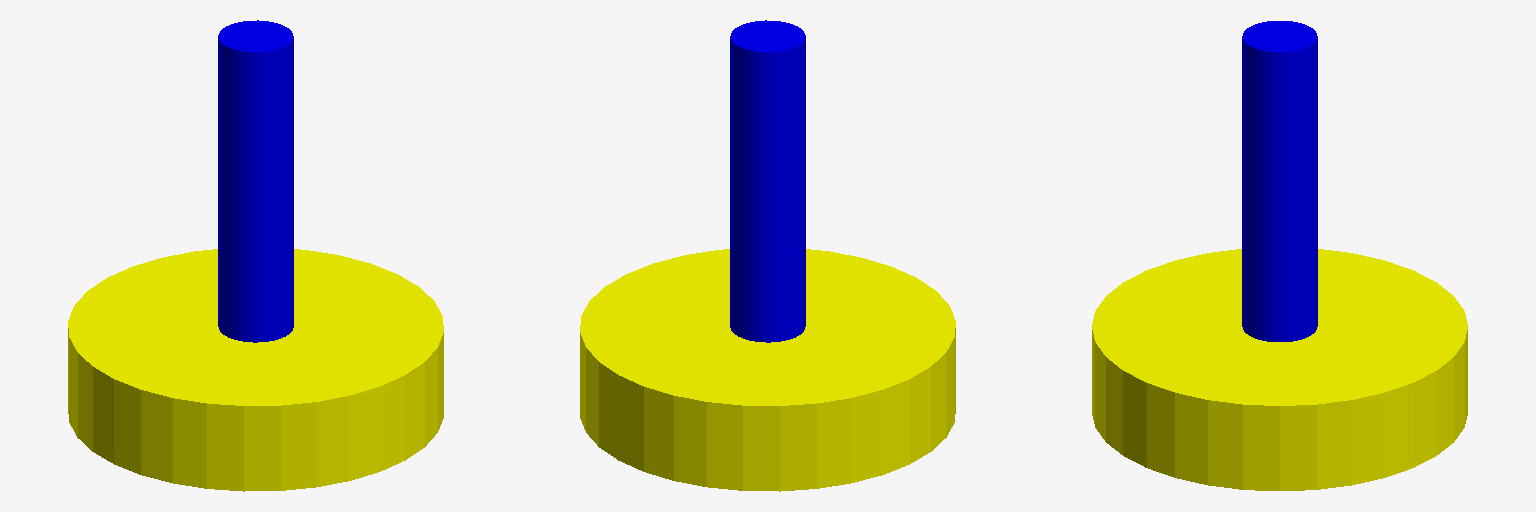
robot.urdf — pan_tilt:
<?xml version="1.0" ?>
<!-- =================================================================================== -->
<!-- |    This document was autogenerated by xacro from src/auv3_simulation/urdf/pan.xacro | -->
<!-- |    EDITING THIS FILE BY HAND IS NOT RECOMMENDED                                 | -->
<!-- =================================================================================== -->
<robot name="pan_tilt" xmlns:controller="http://playerstage.sourceforge.net/gazebo/xmlschema/#controller" xmlns:interface="http://playerstage.sourceforge.net/gazebo/xmlschema/#interface" xmlns:sensor="http://playerstage.sourceforge.net/gazebo/xmlschema/#sensor">
  <link name="base_link">
    <visual>
      <geometry>
        <cylinder length="0.1" radius="0.2"/>
      </geometry>
      <origin rpy="0 0 0" xyz="0 0 0"/>
      <material name="yellow">
        <color rgba="1 1 0 1"/>
      </material>
    </visual>
    <collision>
      <geometry>
        <cylinder length="0.12000000000000001" radius="0.2"/>
      </geometry>
      <origin rpy="0 0 0" xyz="0 0 0"/>
    </collision>
    <inertial>
      <mass value="0.1"/>
      <inertia ixx="0.5" ixy="0.0" ixz="0.0" iyy="0.5" iyz="0.0" izz="0.5"/>
    </inertial>
  </link>
  <joint name="pan_joint" type="revolute">
    <parent link="base_link"/>
    <child link="pan_link"/>
    <origin xyz="0 0 0.1"/>
    <axis xyz="0 0 1"/>
    <limit effort="300" lower="-3.14" upper="3.14" velocity="0.1"/>
    <dynamics damping="50" friction="1"/>
  </joint>
  <link name="pan_link">
    <visual>
      <geometry>
        <cylinder length="0.4" radius="0.04"/>
      </geometry>
      <origin rpy="0 0 0" xyz="0 0 0.09"/>
      <material name="red">
        <color rgba="0 0 1 1"/>
      </material>
    </visual>
    <collision>
      <geometry>
        <cylinder length="0.4" radius="0.06"/>
      </geometry>
      <origin rpy="0 0 0" xyz="0 0 0.09"/>
    </collision>
    <inertial>
      <mass value="1"/>
      <inertia ixx="0.5" ixy="0.0" ixz="0.0" iyy="0.5" iyz="0.0" izz="0.5"/>
    </inertial>
  </link>
  <!-- <joint name="tilt_joint" type="revolute">
    <parent link="pan_link"/>
    <child link="tilt_link"/>
    <origin xyz="0 0 0.2"/>
    <axis xyz="0 1 0" />
    <limit effort="300" velocity="0.1" lower="-4.64" upper="-1.5"/>
    <dynamics damping="50" friction="1"/>
  </joint>

  <link name="tilt_link">
    <visual>
      <geometry>
	<cylinder length="${tilt_link_length}" radius="${tilt_link_radius}"/>
      </geometry>
      <origin rpy="0 1.5 0" xyz="0 0 0"/>
      <material name="green">
        <color rgba="1 0 0 1"/>
      </material>
    </visual>
    <collision>
      <geometry>
	<cylinder length="${tilt_link_length}" radius="${tilt_link_radius+0.2}"/>
      </geometry>
      <origin rpy="0 1.5 0" xyz="0 0 0"/>
    </collision>
	<xacro:inertial_matrix mass="1"/>
  </link> -->
</robot>

--- Render facts (derived) ---
Views: 3 orthographic renders of the robot side by side, from view 1: azimuth 30°, elevation 25°; view 2: azimuth 150°, elevation 25°; view 3: azimuth 270°, elevation 25°.
Model pan_tilt with 2 links and 1 joints (1 revolute), rooted at base_link, posed every joint at zero.
Visible links, largest first — view 1: base_link, pan_link; view 2: base_link, pan_link; view 3: base_link, pan_link.
Boxes of the visible links, x1,y1,x2,y2 form: base_link: (68,249,443,491); pan_link: (218,20,293,342); base_link: (580,249,955,491); pan_link: (730,20,805,342); base_link: (1092,249,1467,490); pan_link: (1242,21,1317,341).
Size in the robot's own frame: 0.4 by 0.4 by 0.44 metres.
Geometry: primitives only (box / cylinder / sphere), no mesh files.